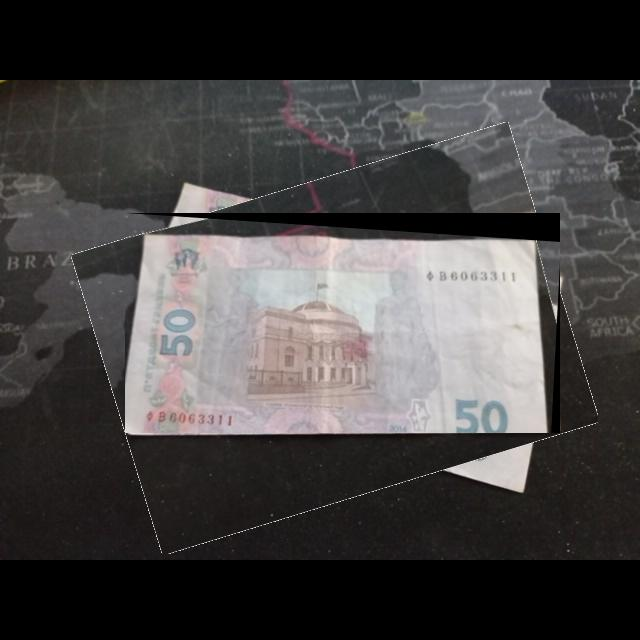50uah: (125, 235, 551, 434)
